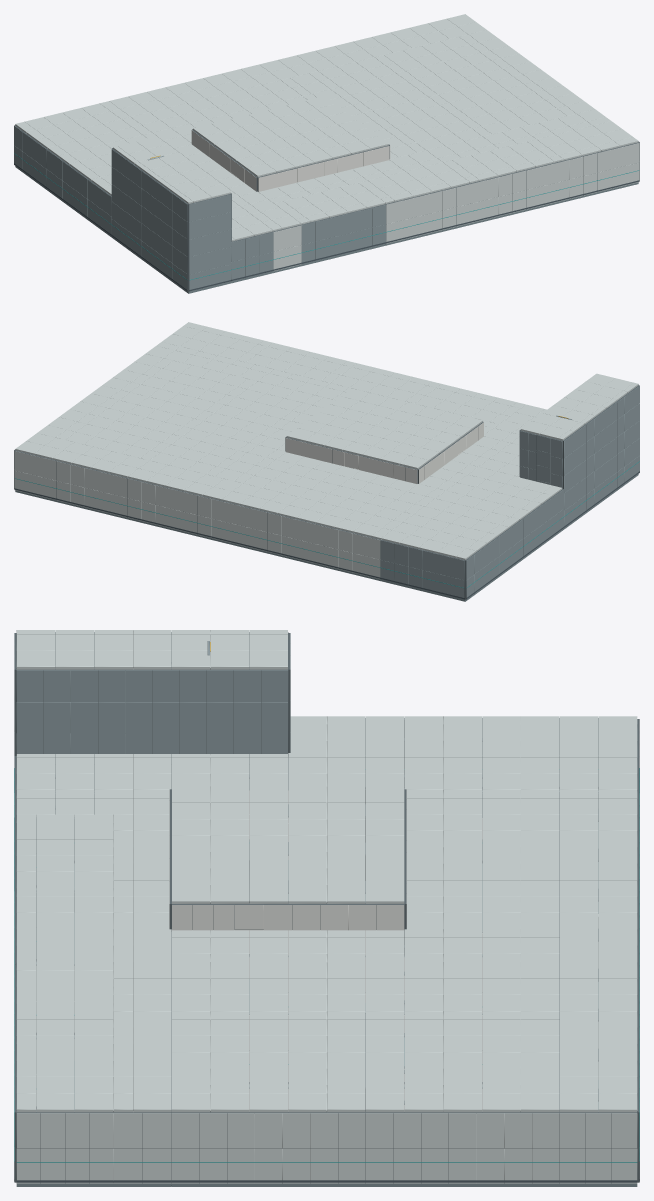
Rendered from LP_B4_Architecture.fbx.
The picture shows the model from 3 angles, top to bottom: view 1: azimuth 30°, elevation 25°; view 2: azimuth 150°, elevation 25°; view 3: azimuth 270°, elevation 25°; orthographic projection. The views are drawn at different scales.
Parts seen in each view (by area): view 1: LP_B4_B4_Service_5_3, LP_B4_B4_Ceiling_5_0, LP_B4_B4_Ceiling_1_2, LP_B4_B4_Ceiling_1_1, LP_B4_B4_Ceiling_2_3, LP_B4_B4_Ceiling_1_0, LP_B4_B4_Ceiling_0_3, LP_B4_B4_Ceiling_3_2, LP_B4_B4_Panel_1_3, LP_B4_B4_Ceiling_2_0, LP_B4_B4_Ceiling_3_0, LP_B4_B4_Ceiling_4_3 (+27 smaller); view 2: LP_B4_B4_Service_5_2, LP_B4_B4_Service_5_0, LP_B4_B4_Service_5_3, LP_B4_B4_Ceiling_5_0, LP_B4_B4_Ceiling_5_1, LP_B4_B4_Ceiling_1_1, LP_B4_B4_Ceiling_1_2, LP_B4_B4_Ceiling_1_0, LP_B4_B4_Ceiling_3_0, LP_B4_B4_Ceiling_3_1, LP_B4_B4_Ceiling_2_0, LP_B4_B4_Panel_1_0 (+28 smaller); view 3: LP_B4_B4_Service_5_3, LP_B4_B4_Ceiling_5_3, LP_B4_B4_Ceiling_1_1, LP_B4_B4_Ceiling_1_2, LP_B4_B4_Panel_0_2, LP_B4_B4_Ceiling_5_0, LP_B4_B4_Panel_0_0, LP_B4_B4_Ceiling_5_1, LP_B4_B4_Ceiling_5_2, LP_B4_B4_Panel_0_3, LP_B4_B4_Ceiling_2_3, LP_B4_B4_Ceiling_1_0 (+26 smaller).
Part boxes in pixels (box(x1,y1,x2,y2)): LP_B4_B4_Service_5_3: box(142, 171, 259, 291); LP_B4_B4_Ceiling_5_0: box(15, 103, 142, 156); LP_B4_B4_Ceiling_1_2: box(402, 93, 529, 145); LP_B4_B4_Ceiling_1_1: box(359, 62, 485, 113); LP_B4_B4_Ceiling_2_3: box(371, 146, 497, 196); LP_B4_B4_Ceiling_1_0: box(316, 32, 442, 82); LP_B4_B4_Ceiling_0_3: box(520, 109, 638, 160); LP_B4_B4_Ceiling_3_2: box(252, 117, 370, 167); LP_B4_B4_Panel_1_3: box(484, 160, 568, 219); LP_B4_B4_Ceiling_2_0: box(241, 50, 358, 100); LP_B4_B4_Ceiling_3_0: box(165, 69, 283, 118); LP_B4_B4_Ceiling_4_3: box(232, 183, 347, 231); LP_B4_B4_Service_5_2: box(520, 415, 594, 533); LP_B4_B4_Service_5_0: box(394, 531, 507, 599); LP_B4_B4_Service_5_3: box(594, 386, 639, 505); LP_B4_B4_Ceiling_5_0: box(381, 506, 508, 560); LP_B4_B4_Ceiling_5_1: box(424, 475, 551, 527); LP_B4_B4_Ceiling_1_1: box(124, 401, 251, 453); LP_B4_B4_Ceiling_1_2: box(168, 370, 294, 421); LP_B4_B4_Ceiling_1_0: box(90, 433, 208, 486); LP_B4_B4_Ceiling_3_0: box(240, 472, 358, 523); LP_B4_B4_Ceiling_3_1: box(284, 425, 401, 490); LP_B4_B4_Ceiling_2_0: box(165, 454, 283, 504); LP_B4_B4_Panel_1_0: box(85, 468, 169, 527); LP_B4_B4_Service_5_3: box(14, 633, 179, 791); LP_B4_B4_Ceiling_5_3: box(16, 630, 171, 789); LP_B4_B4_Ceiling_1_1: box(327, 978, 481, 1052); LP_B4_B4_Ceiling_1_2: box(172, 978, 326, 1052); LP_B4_B4_Panel_0_2: box(172, 1113, 337, 1183); LP_B4_B4_Ceiling_5_0: box(482, 716, 637, 789); LP_B4_B4_Panel_0_0: box(476, 1051, 639, 1183); LP_B4_B4_Ceiling_5_1: box(327, 716, 481, 789); LP_B4_B4_Ceiling_5_2: box(172, 630, 326, 786); LP_B4_B4_Panel_0_3: box(14, 1051, 171, 1183); LP_B4_B4_Ceiling_2_3: box(16, 913, 171, 986); LP_B4_B4_Ceiling_1_0: box(482, 978, 637, 1052).
Size of the model in its own units: 4828 by 941 by 3228.
